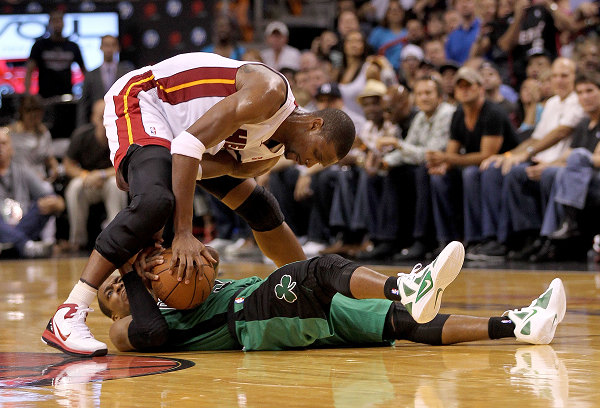10+: (2, 1, 599, 363)
down: (81, 228, 569, 357)
